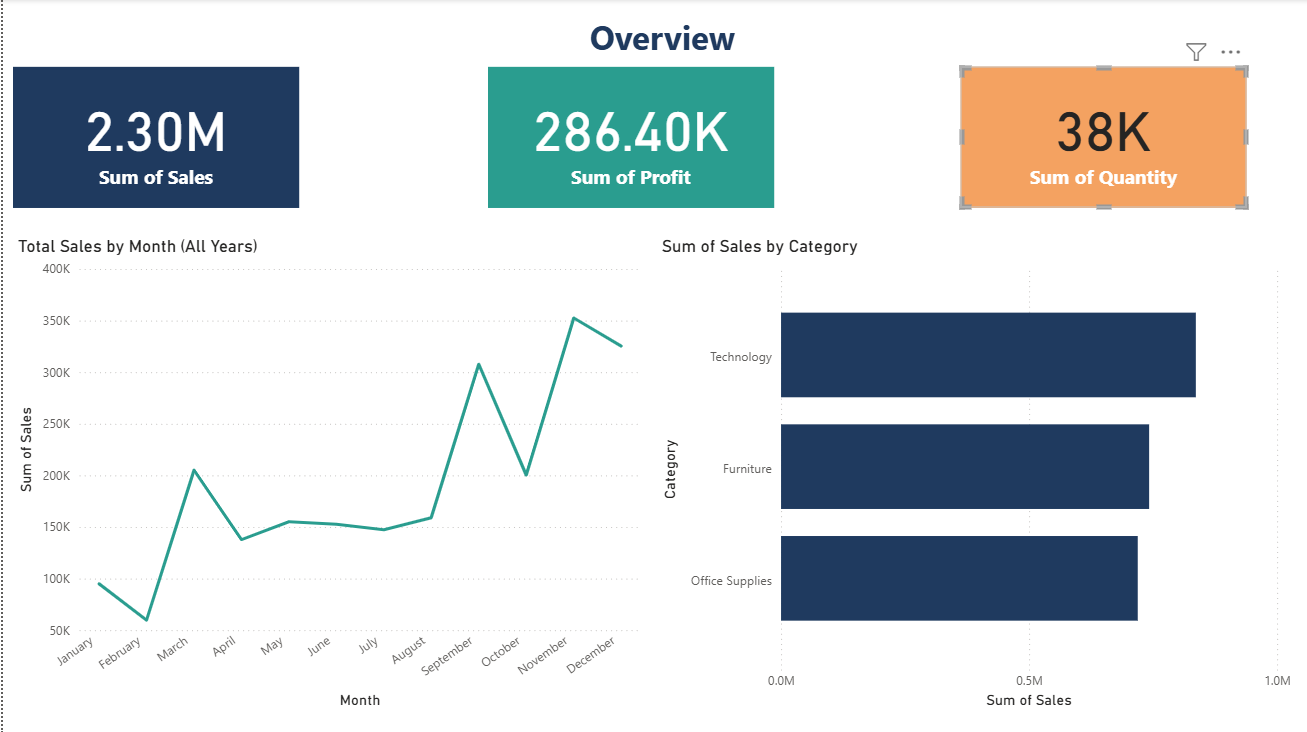

What the dashboard file says about the page in this screenshot:
{"tool":"powerbi","page":{"name":"Page 1","canvas":[1280,720],"ordinal":0},"visuals":[{"type":"card","fields":{"Values":["Sum(superstore_cleaned.Sales)"]},"box":[9.8,66,280,138.2],"z":0},{"type":"card","fields":{"Values":["Sum(superstore_cleaned.Profit)"]},"box":[473.8,66,280,138],"z":1000},{"type":"card","fields":{"Values":["Sum(superstore_cleaned.Quantity)"]},"box":[936.7,66,280,138.2],"z":2000},{"type":"lineChart","title":"Total Sales by Month (All Years)","fields":{"Category":["superstore_cleaned.Order_Date.Variation.Date Hierarchy.Year","superstore_cleaned.Order_Date.Variation.Date Hierarchy.Quarter","superstore_cleaned.Order_Date.Variation.Date Hierarchy.Month","superstore_cleaned.Order_Date.Variation.Date Hierarchy.Day"],"Y":["Sum(superstore_cleaned.Sales)"]},"box":[9.8,231.1,618.8,468.3],"z":3000},{"type":"clusteredBarChart","fields":{"Category":["superstore_cleaned.Category"],"Y":["Sum(superstore_cleaned.Sales)"]},"box":[639.5,231.1,626.1,468.3],"z":4000},{"type":"textbox","box":[9.8,11,1270.5,55],"z":5000}]}

Visuals, with their boxes in screenshot pixels (x1, y1, x2, y2), scaled from the page's 1280x720 canvas onto the 1307x732 screenshot:
card - Sum(superstore_cleaned.Sales): region(10, 67, 296, 208)
card - Sum(superstore_cleaned.Profit): region(484, 67, 770, 207)
card - Sum(superstore_cleaned.Quantity): region(956, 67, 1242, 208)
"Total Sales by Month (All Years)" lineChart: region(10, 235, 642, 711)
clusteredBarChart - superstore_cleaned.Category x Sum(superstore_cleaned.Sales): region(653, 235, 1292, 711)
textbox: region(10, 11, 1306, 67)
